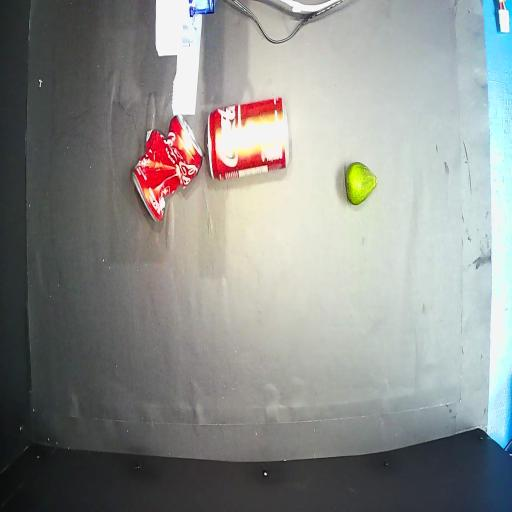higo: (345, 162, 377, 205)
lata: (207, 97, 289, 181)
lata_defectuoso: (132, 116, 203, 221)
